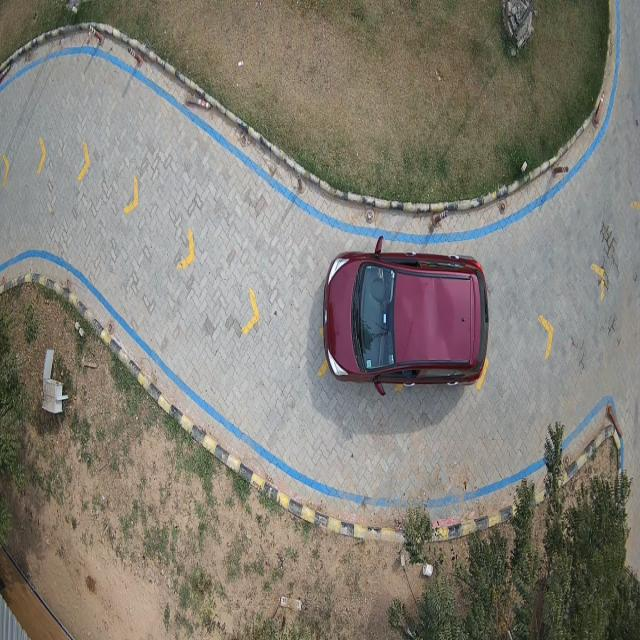car: (322, 236, 489, 396)
